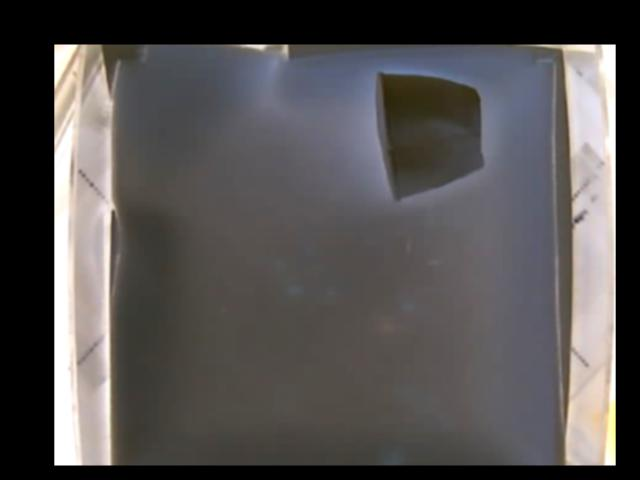Cup: (374, 71, 485, 202)
